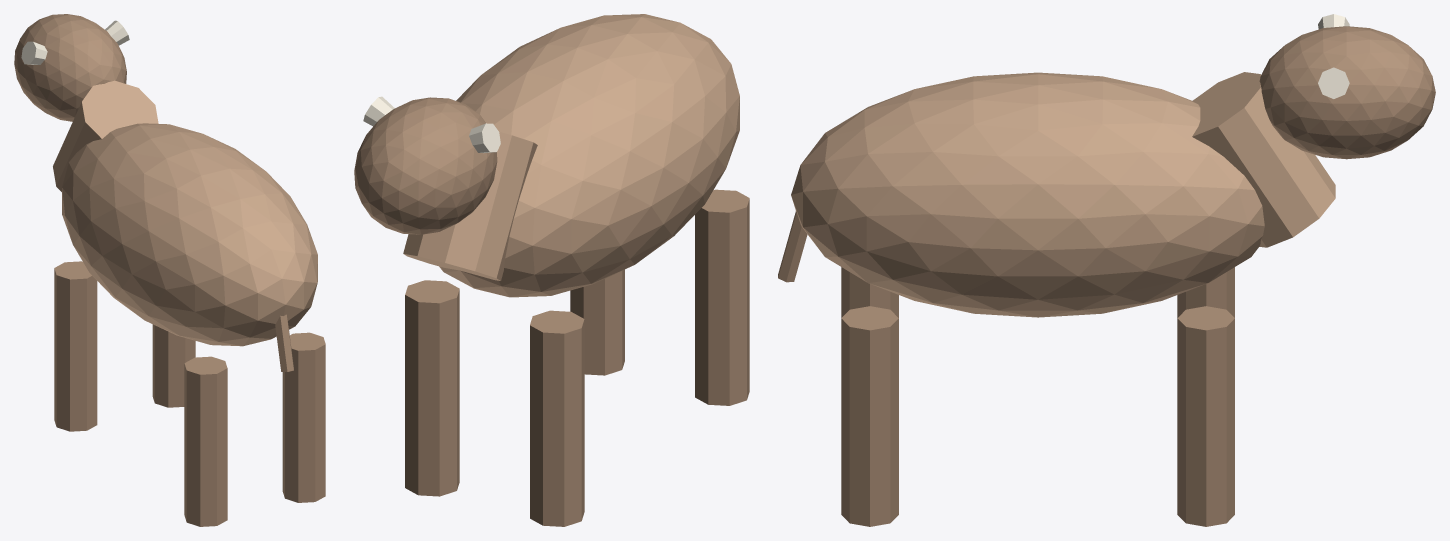
File: ANI_Ox.glb
3 renders of one model, left to right at view 1: azimuth 30°, elevation 25°; view 2: azimuth 150°, elevation 25°; view 3: azimuth 270°, elevation 25°, orthographic. The views are drawn at different scales.
Visible parts, largest first — view 1: Part_0, Part_6, Part_2, Part_1, Part_4, Part_5, Part_3, Part_7, Part_8; view 2: Part_0, Part_6, Part_3, Part_1, Part_2, Part_5, Part_4, Part_8, Part_9; view 3: Part_0, Part_6, Part_3, Part_4, Part_5, Part_2, Part_1, Part_7, Part_9.
Boxes of the visible parts, x1,y1,x2,y2 form: Part_0: [62, 123, 317, 346]; Part_6: [14, 14, 126, 121]; Part_2: [184, 356, 227, 526]; Part_1: [54, 261, 97, 431]; Part_4: [282, 332, 325, 502]; Part_5: [53, 80, 158, 191]; Part_3: [152, 324, 195, 407]; Part_7: [275, 314, 293, 371]; Part_8: [21, 41, 47, 64]; Part_0: [439, 14, 739, 297]; Part_6: [354, 97, 497, 234]; Part_3: [405, 280, 459, 496]; Part_1: [530, 310, 584, 526]; Part_2: [695, 189, 749, 405]; Part_5: [403, 131, 537, 280]; Part_4: [570, 269, 624, 375]; Part_8: [469, 123, 500, 153]; Part_9: [363, 96, 394, 126]; Part_0: [791, 72, 1264, 317]; Part_6: [1259, 26, 1435, 159]; Part_3: [1177, 306, 1234, 526]; Part_4: [841, 306, 898, 526]; Part_5: [1192, 72, 1335, 247]; Part_2: [841, 267, 898, 317]; Part_1: [1177, 267, 1234, 317]; Part_7: [778, 211, 807, 282]; Part_9: [1318, 67, 1349, 98].
Bounding box in the file's own units: 0.82 × 1.56 × 2.06.
